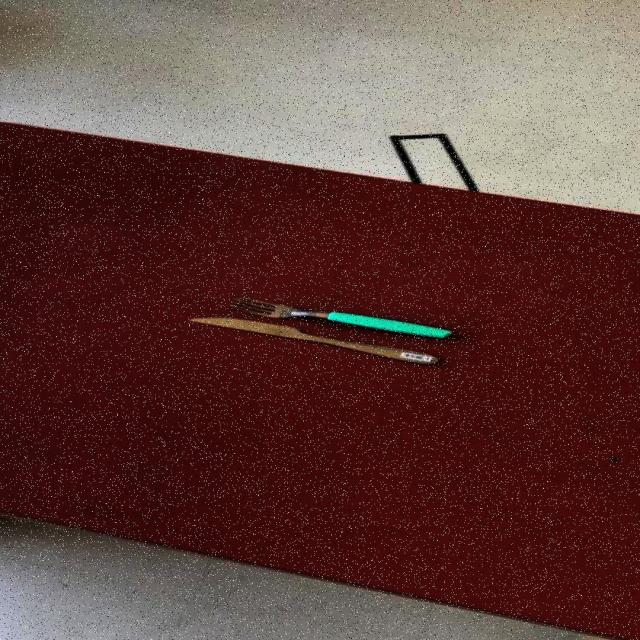Fork: (229, 294, 456, 339)
Knife: (189, 315, 442, 365), (228, 294, 456, 339)
